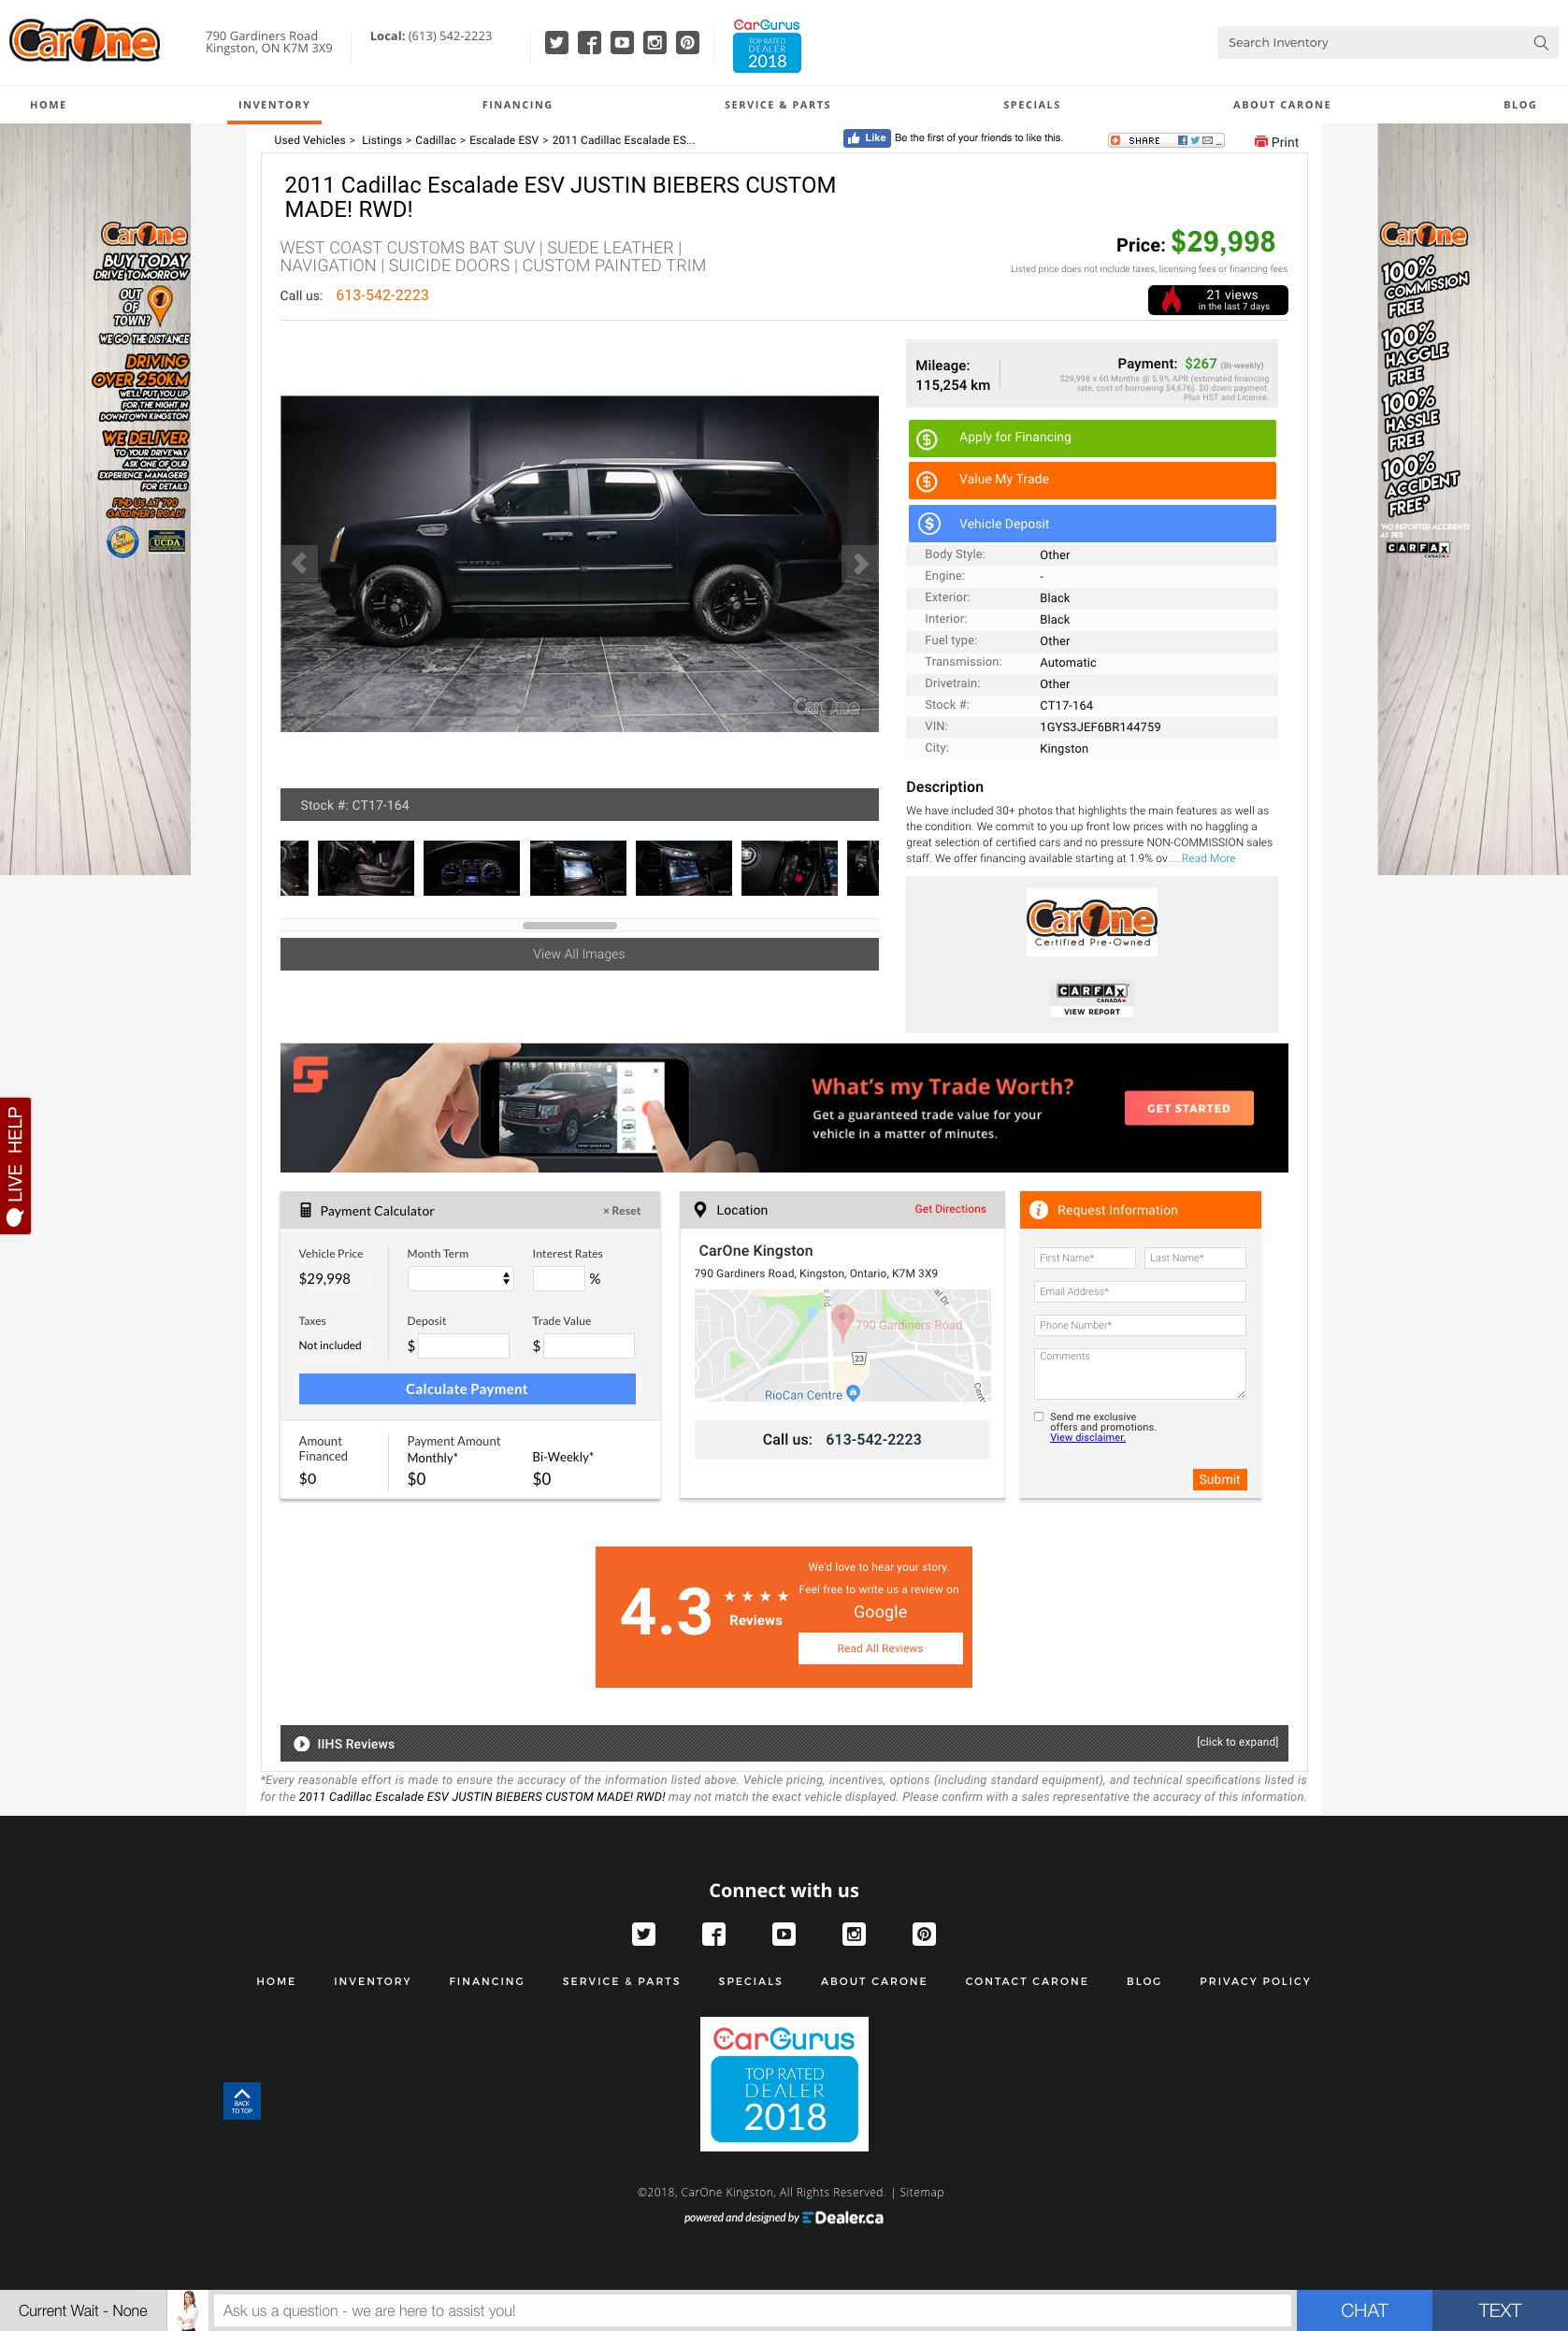car: (842, 544, 880, 584)
